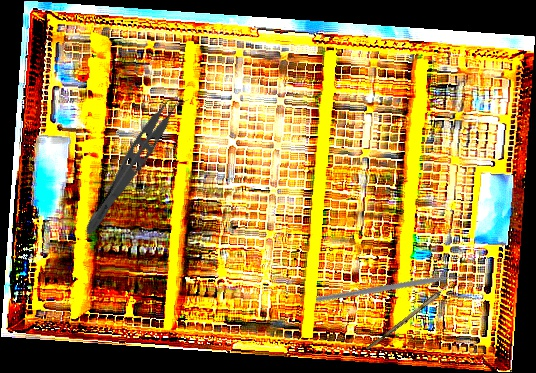Chopper: (314, 213, 475, 370)
Surgical Spoon: (366, 269, 467, 353)
Tissue Forceps: (80, 86, 191, 244)
